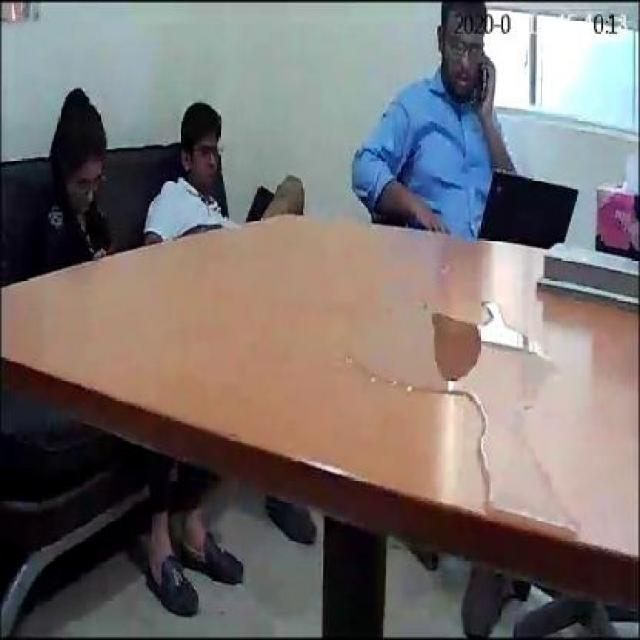spill: (352, 281, 580, 534)
